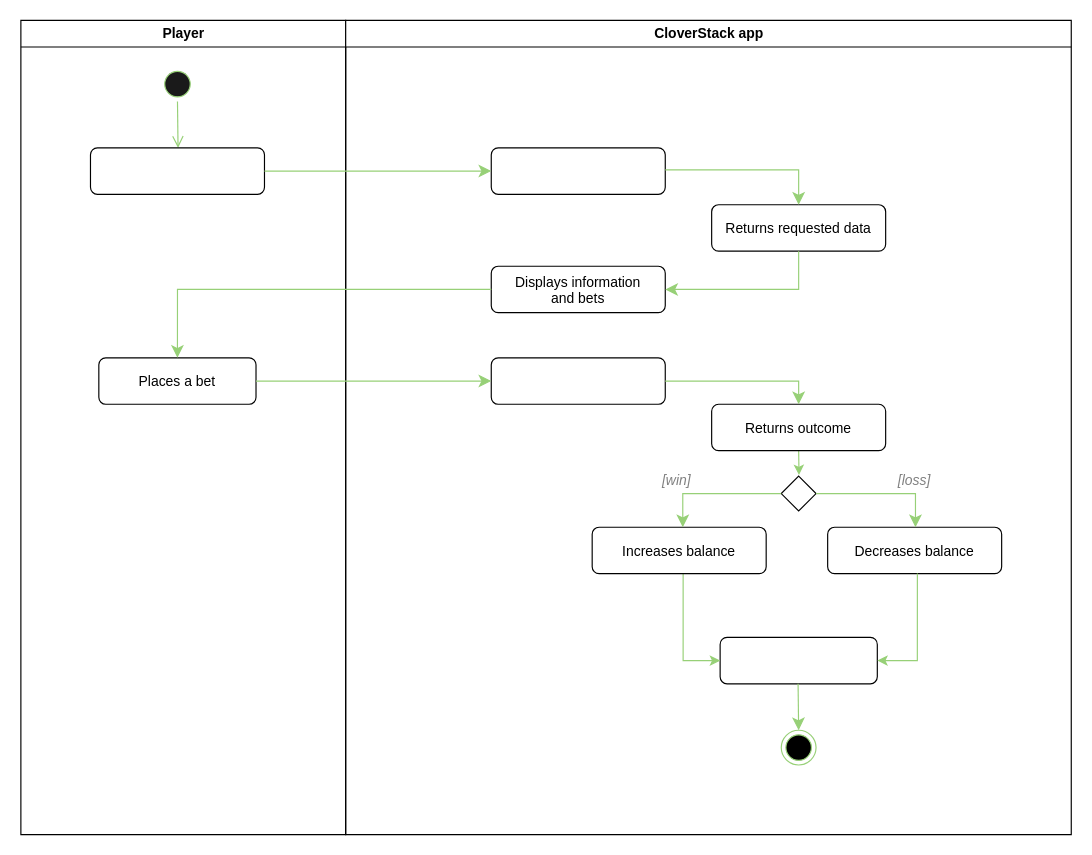
This 1092x855 diagram has some shape labels left out. The shapes that lost their labels are listed below. From the top down, each one's centre as x and y in pixels, then its label:
At point 176,170: "Selects roulette".
At point 577,170: "Requests player's balance data".
At point 577,380: "Receives player's bet".
At point 798,660: "Displays result".
